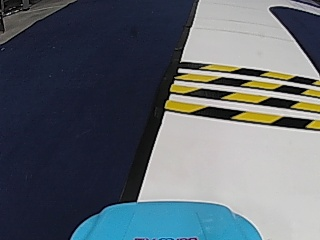bump: (187, 62, 308, 129)
